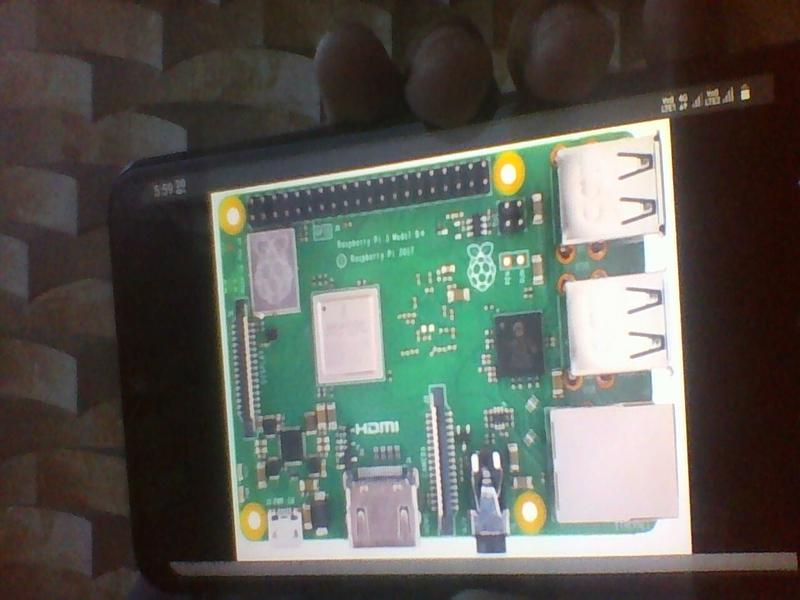aud: (467, 442, 511, 560)
eth: (546, 403, 682, 521)
usb: (553, 141, 667, 243), (562, 274, 674, 377)
